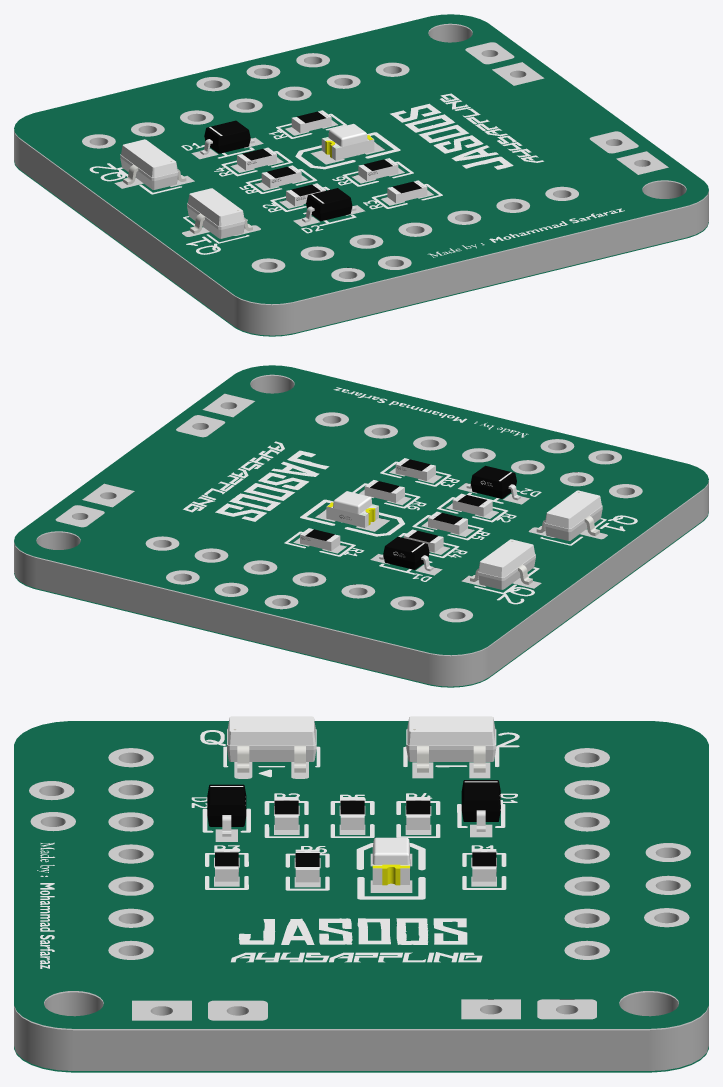
Rendered from Jasoos_PCB.glb.
3 renders of one model, top to bottom at view 1: azimuth 30°, elevation 25°; view 2: azimuth 150°, elevation 25°; view 3: azimuth 270°, elevation 25°, orthographic. The views are drawn at different scales.
Parts seen in each view (by area): view 1: PCB.267, PCB.268, PCB.027, PCB.005, PCB.285, PCB, PCB.266, PCB.009, PCB.006, PCB.141, PCB.144, PCB.080 (+1 smaller); view 2: PCB.267, PCB.268, PCB.005, PCB.027, PCB.285, PCB, PCB.266, PCB.009, PCB.006, PCB.141, PCB.144, PCB.080 (+1 smaller); view 3: PCB.267, PCB.268, PCB.027, PCB.005, PCB, PCB.285, PCB.266, PCB.144, PCB.141, PCB.080, PCB.149, PCB.006 (+5 smaller).
Boxes of the visible parts, x1,y1,x2,y2 form: PCB.267: (14, 14, 708, 304); PCB.268: (14, 23, 708, 335); PCB.027: (120, 139, 186, 189); PCB.005: (187, 188, 252, 238); PCB.285: (200, 120, 254, 154); PCB: (302, 188, 356, 222); PCB.266: (14, 161, 708, 336); PCB.009: (321, 136, 374, 160); PCB.006: (328, 123, 367, 146); PCB.141: (492, 62, 543, 85); PCB.144: (616, 151, 668, 174); PCB.080: (465, 42, 514, 64); PCB.267: (14, 365, 708, 655); PCB.268: (14, 374, 708, 686); PCB.005: (536, 490, 602, 540); PCB.027: (470, 539, 535, 589); PCB.285: (379, 536, 433, 571); PCB: (466, 465, 520, 500); PCB.266: (14, 512, 708, 687); PCB.009: (326, 504, 378, 527); PCB.006: (333, 491, 372, 514); PCB.141: (82, 484, 134, 507); PCB.144: (203, 394, 254, 417); PCB.080: (55, 505, 104, 527); PCB.267: (14, 721, 708, 1028); PCB.268: (14, 748, 708, 1070); PCB.027: (406, 716, 496, 772); PCB.005: (227, 716, 316, 772); PCB: (207, 784, 246, 836); PCB.285: (461, 780, 500, 831); PCB.266: (14, 1046, 708, 1072); PCB.144: (132, 1000, 191, 1020); PCB.141: (461, 999, 520, 1019); PCB.080: (537, 999, 596, 1019); PCB.149: (208, 1000, 267, 1020); PCB.006: (372, 837, 409, 864).
Bounding box in the file's own units: 2.43 × 0.287 × 2.32.
